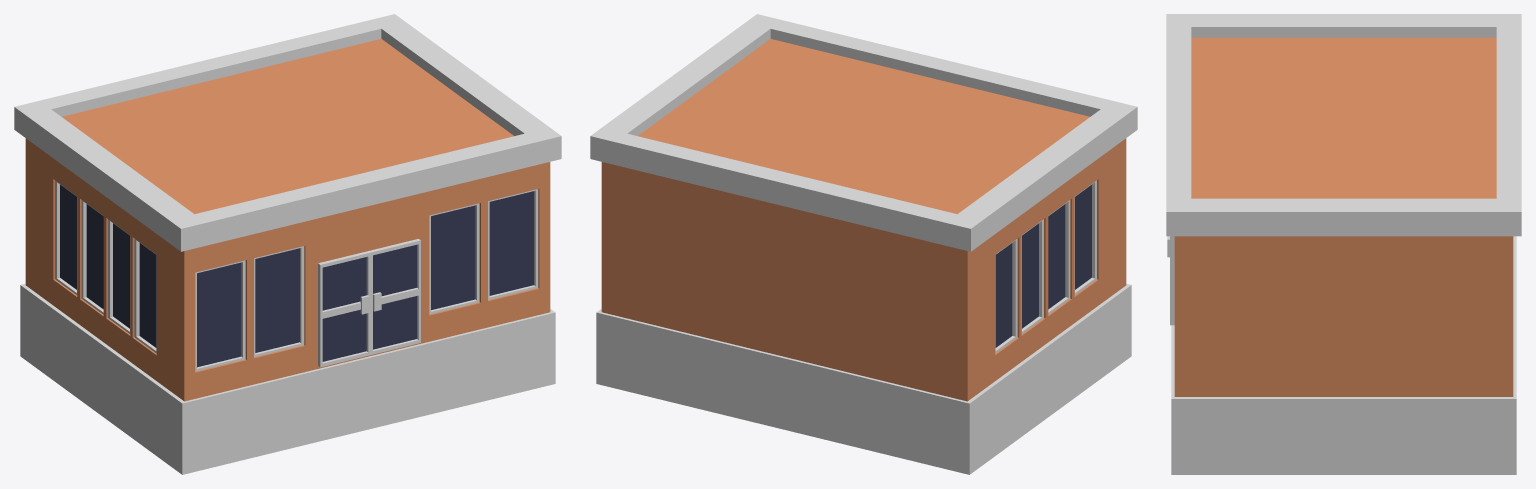
File: Lowrise_3.fbx
The picture shows the model from 3 angles, left to right: view 1: azimuth 30°, elevation 25°; view 2: azimuth 150°, elevation 25°; view 3: azimuth 270°, elevation 25°; orthographic projection. The views are drawn at different scales.
Parts seen in each view (by area): view 1: House_3; view 2: House_3; view 3: House_3.
Part boxes in pixels (bbox=[...]): House_3: bbox=[14, 14, 561, 474]; House_3: bbox=[590, 14, 1137, 474]; House_3: bbox=[1166, 14, 1521, 474].
Bounding box in the file's own units: 7.77 × 4.85 × 5.9.
